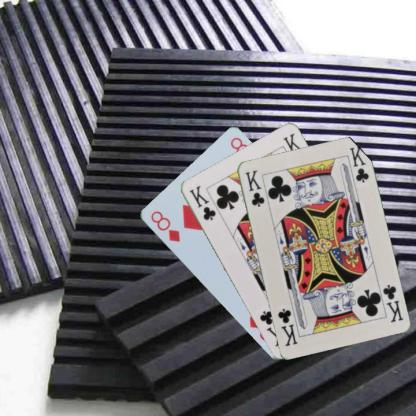8d: (148, 208, 181, 243)
Kc: (186, 182, 217, 222), (379, 282, 404, 324), (242, 167, 266, 208)
